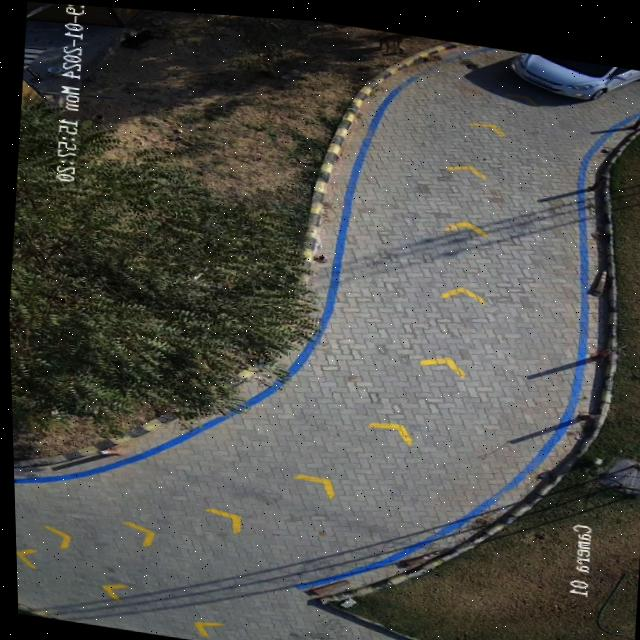car: (511, 44, 640, 91)
